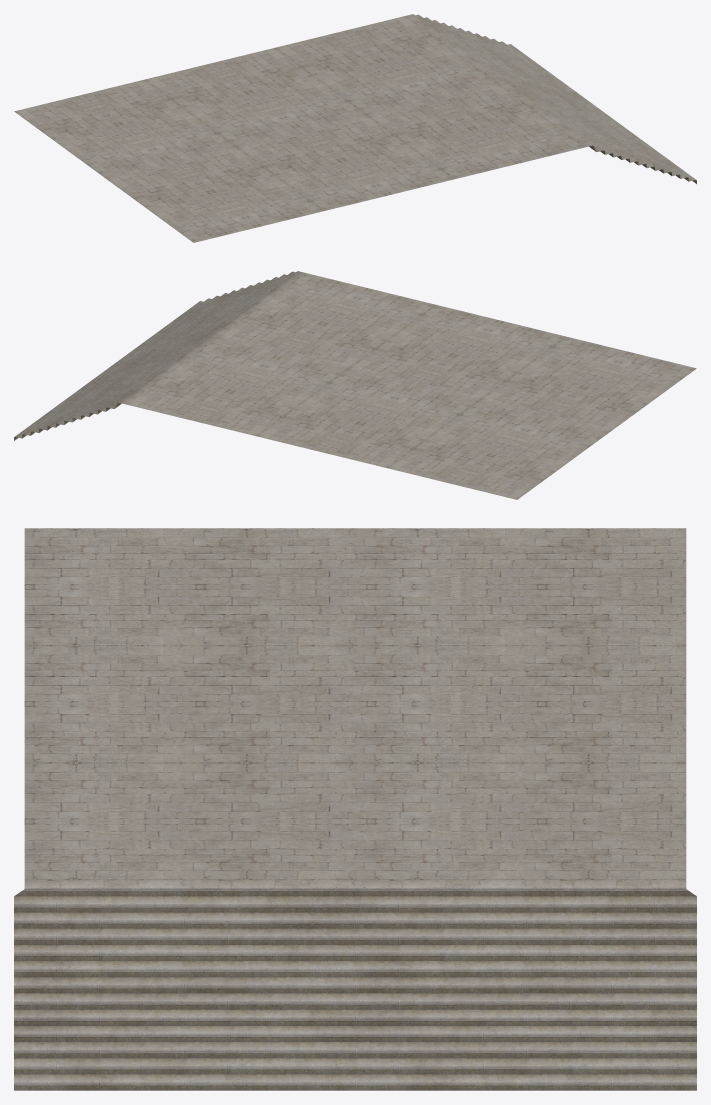
File: Stairs2.fbx
3 renders of one model, top to bottom at view 1: azimuth 30°, elevation 25°; view 2: azimuth 150°, elevation 25°; view 3: azimuth 270°, elevation 25°, orthographic. The views are drawn at different scales.
Visible parts, largest first — view 1: LV_Campagna_Uni_BigStair_SM_HSH; view 2: LV_Campagna_Uni_BigStair_SM_HSH; view 3: LV_Campagna_Uni_BigStair_SM_HSH.
Boxes of the visible parts, bbox=[...] form: LV_Campagna_Uni_BigStair_SM_HSH: bbox=[14, 14, 696, 242]; LV_Campagna_Uni_BigStair_SM_HSH: bbox=[14, 271, 696, 499]; LV_Campagna_Uni_BigStair_SM_HSH: bbox=[14, 528, 696, 1090].
Bounding box in the file's own units: 5.98 × 0.7 × 3.84.
1 material, 1 textured.
